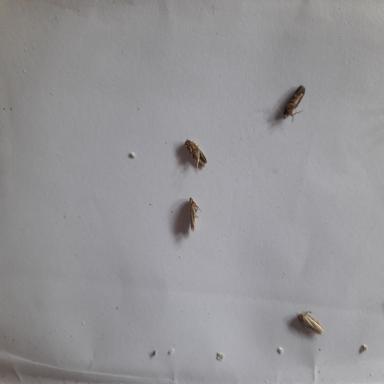pbw: (281, 85, 307, 119), (184, 135, 208, 170), (297, 308, 324, 337), (186, 194, 200, 231)
